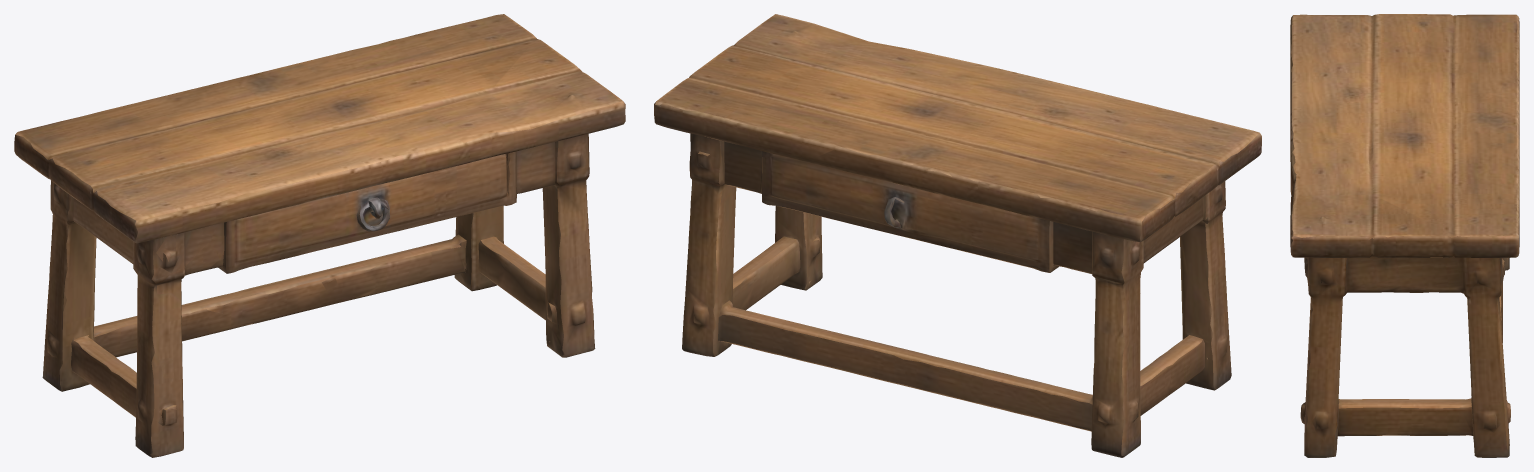
3 views of the same model, side by side, from view 1: azimuth 30°, elevation 25°; view 2: azimuth 150°, elevation 25°; view 3: azimuth 270°, elevation 25° (orthographic). The views are drawn at different scales.
Visible parts, largest first — view 1: geometry_0; view 2: geometry_0; view 3: geometry_0.
Part boxes in pixels (x1,y1,x2,y2): geometry_0: (14, 14, 625, 457); geometry_0: (654, 14, 1261, 457); geometry_0: (1290, 14, 1519, 457).
Bounding box in the file's own units: 1.2 × 0.5905 × 0.5201.
Materials: 1 (1 with a texture image).
